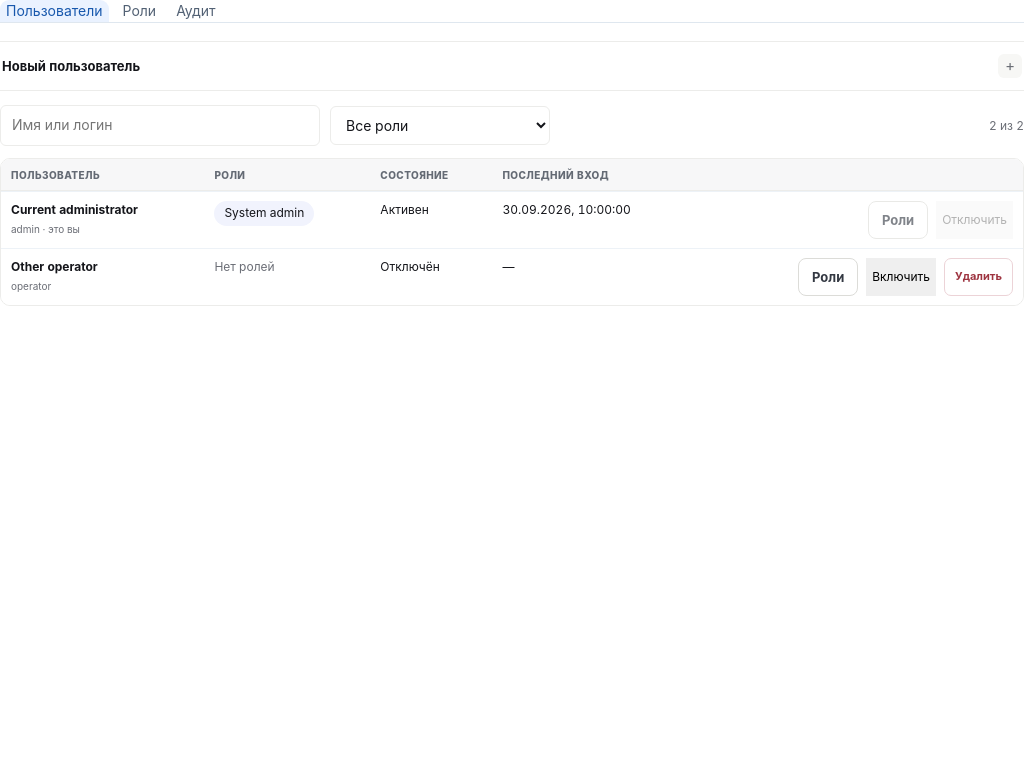
Scenario: user access management › deletes another user only after typing their login
This screenshot has width=1024, height=768.
Expected: the text "Other operator" is shown, [11,259,98,274]
Expected: the button "Удалить пользователя" is not shown
Click the button with aria-label "Удалить пользователя: Other operator": click(978, 277) [944,258,1013,296]
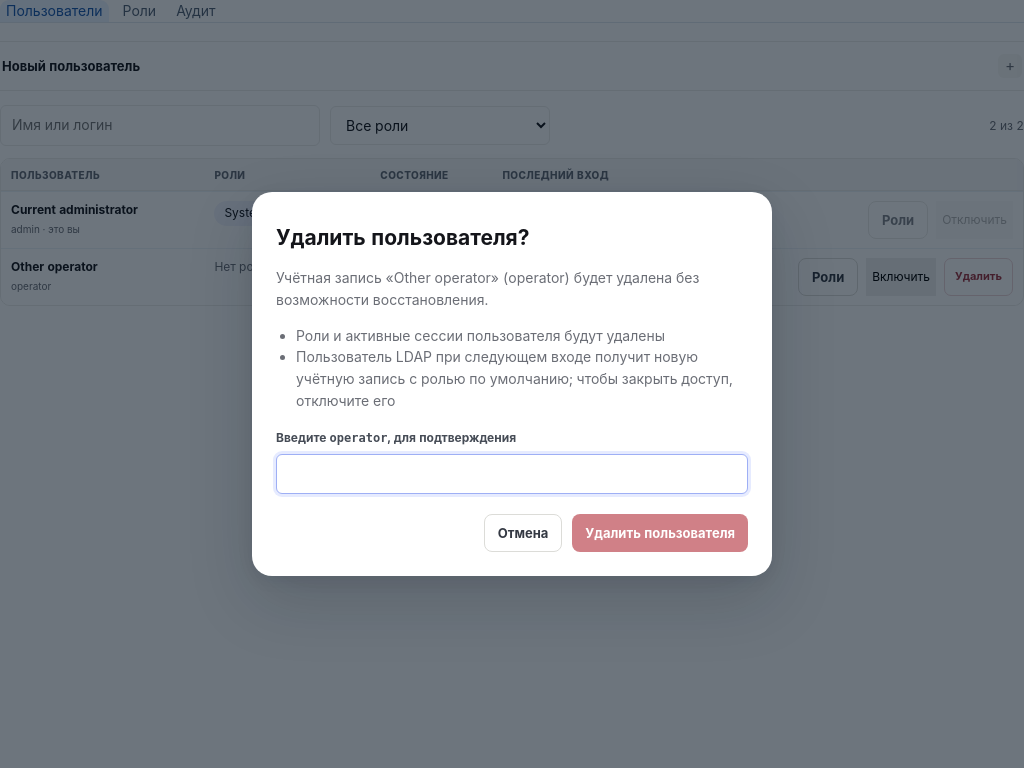
Expected: the text "Введите operator, для подтверждения" is shown, [276,430,516,445]
Expected: the button "Удалить пользователя" is disabled, [572,514,748,552]
In the field: (512, 474) [276,454,748,494], type "operator"
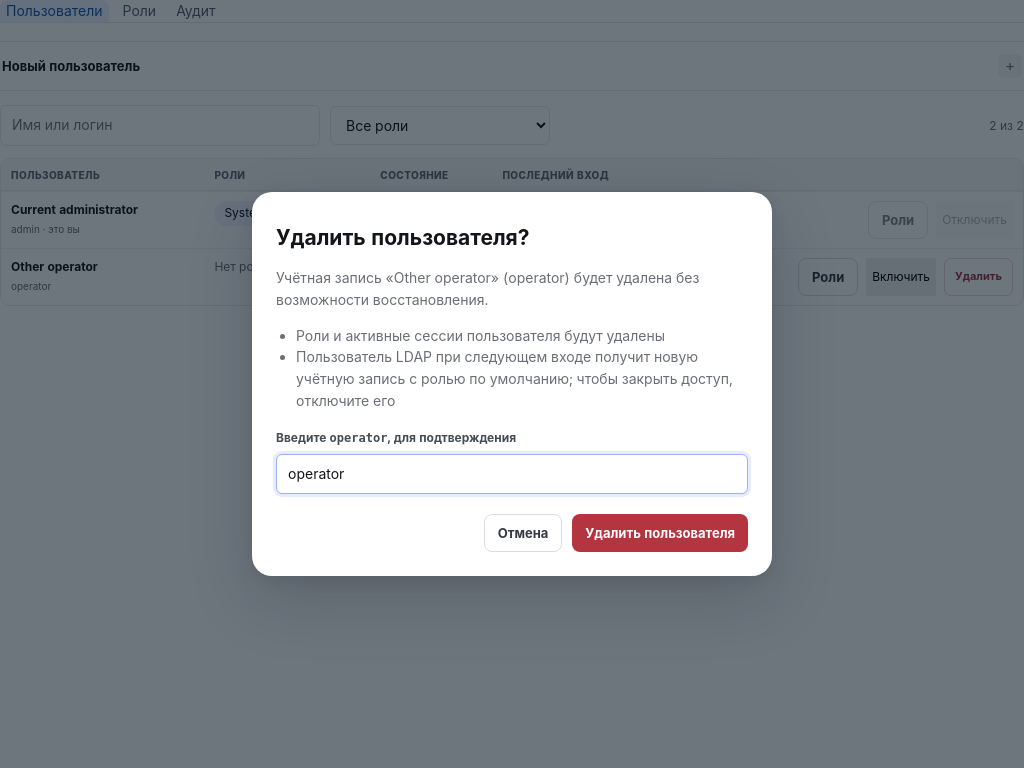
Click the button "Удалить пользователя": click(660, 533) [572,514,748,552]
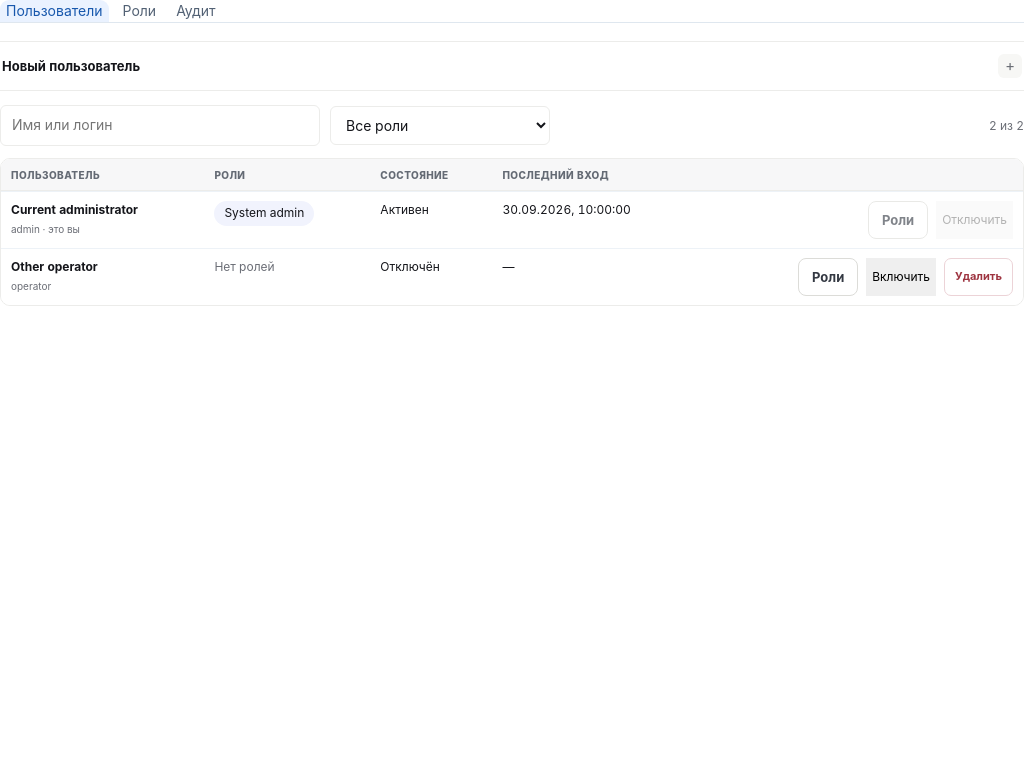
Expected: the dialog is gone
